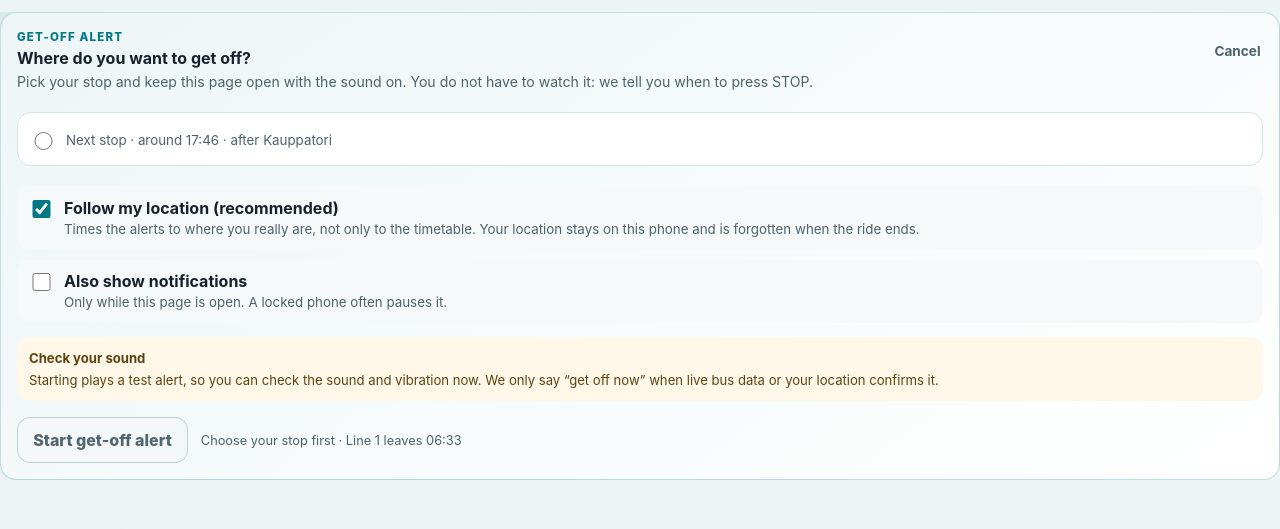
Test: says why the ride cannot start instead of ignoring the button
Expected: the button "Start get-off alert" is shown, [17,417,188,463]
Click the radio button showing "2".
click(43, 141)  # box [34,132,53,150]
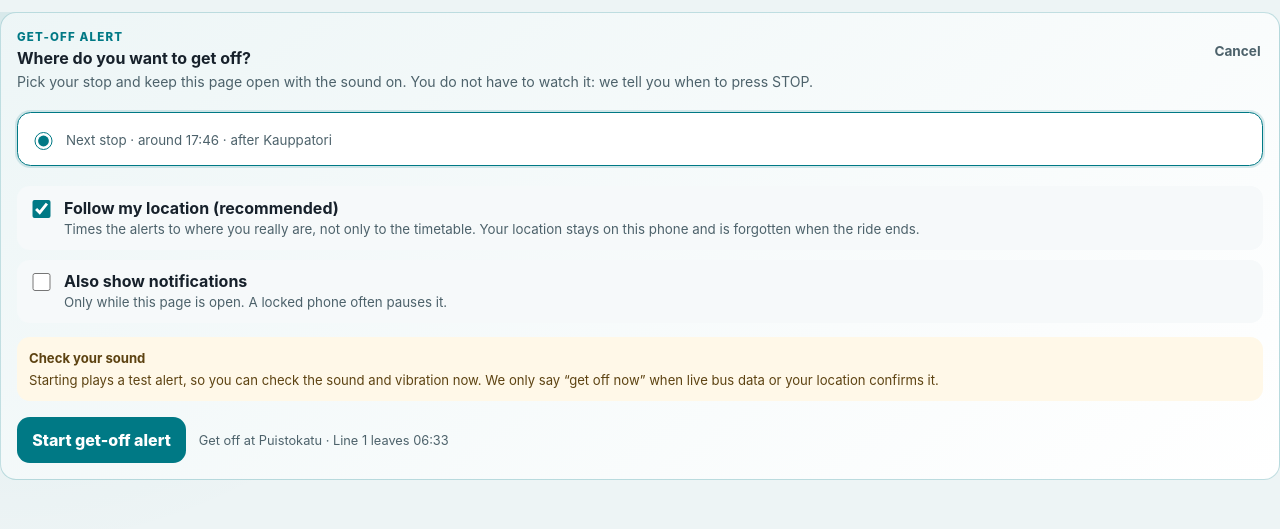
Click the button "Start get-off alert".
click(102, 440)  # box [17,417,186,463]
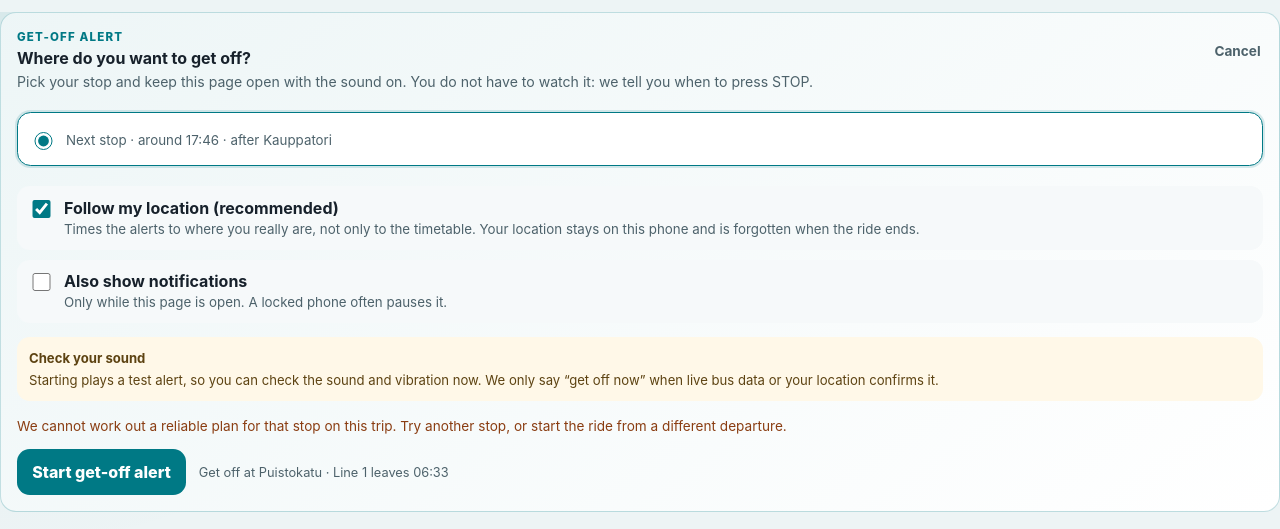
Now the message shows "cannot work out a reliable plan", box [17,418,787,434]
